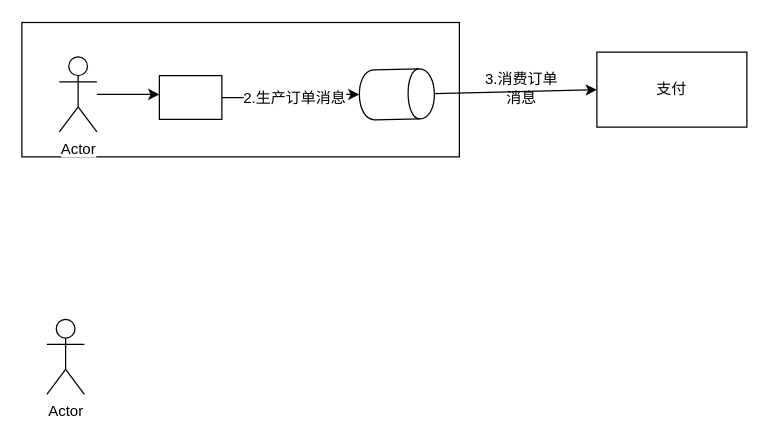
Some shapes in this 769 by 441 pixel diagram are drawn without their labels. The centre of each missing label's shape, as x and y in pixels:
1.下单: point (190, 96)
MQ: point (396, 94)
